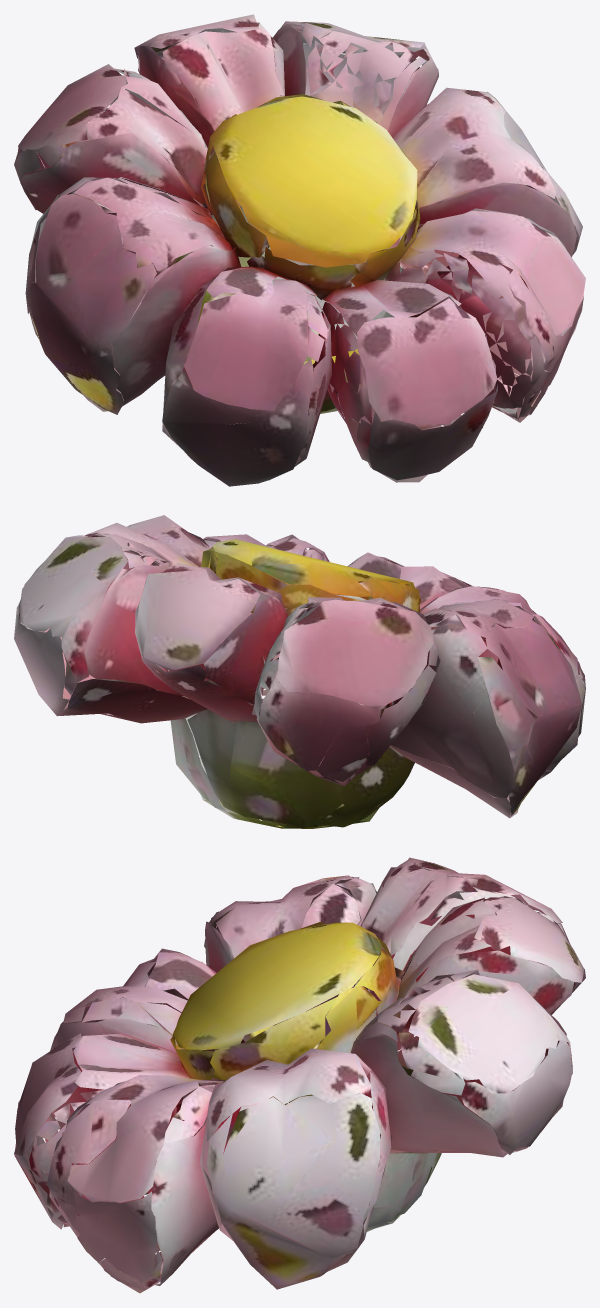
The model's file is flower.glb.
The picture shows the model from 3 angles, top to bottom: view 1: azimuth 30°, elevation 25°; view 2: azimuth 150°, elevation 25°; view 3: azimuth 270°, elevation 25°; orthographic projection. The views are drawn at different scales.
Parts seen in each view (by area): view 1: low; view 2: low; view 3: low.
Part boxes in pixels (bbox=[...]): low: bbox=[14, 14, 585, 486]; low: bbox=[14, 515, 585, 828]; low: bbox=[14, 857, 585, 1293].
Bounding box in the file's own units: 3.51 × 2.03 × 3.36.
Materials: 1 (1 with a texture image).
